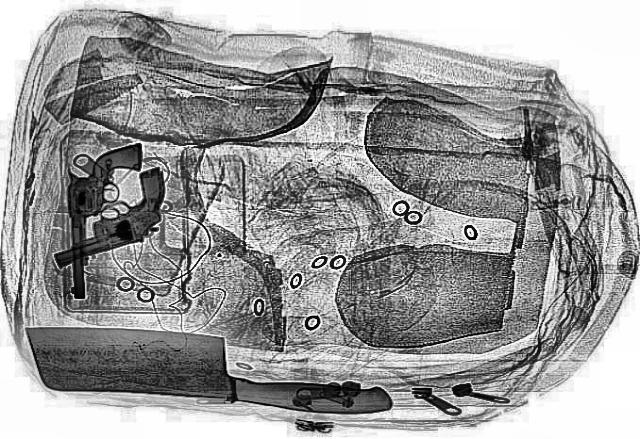Gun: (15, 166, 201, 264), (66, 142, 142, 298)
Knife: (18, 325, 396, 414)
